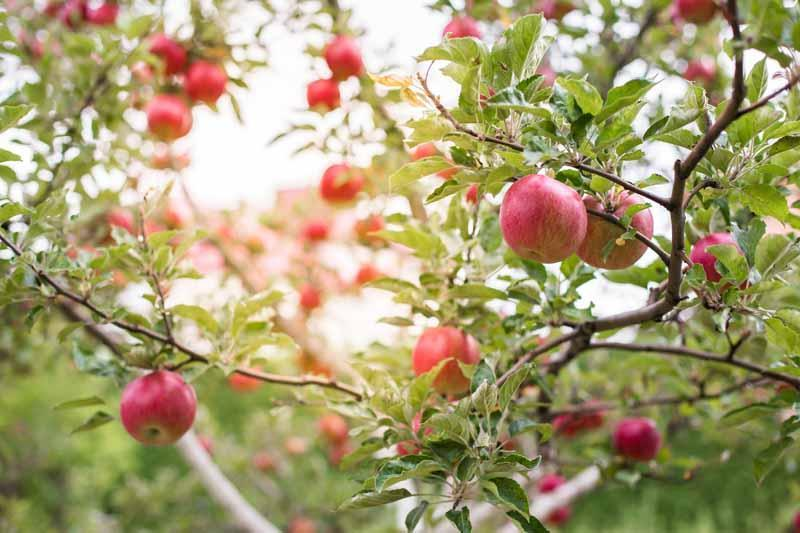apple: (498, 172, 590, 269), (119, 370, 200, 448), (574, 200, 658, 270), (412, 323, 482, 376)
